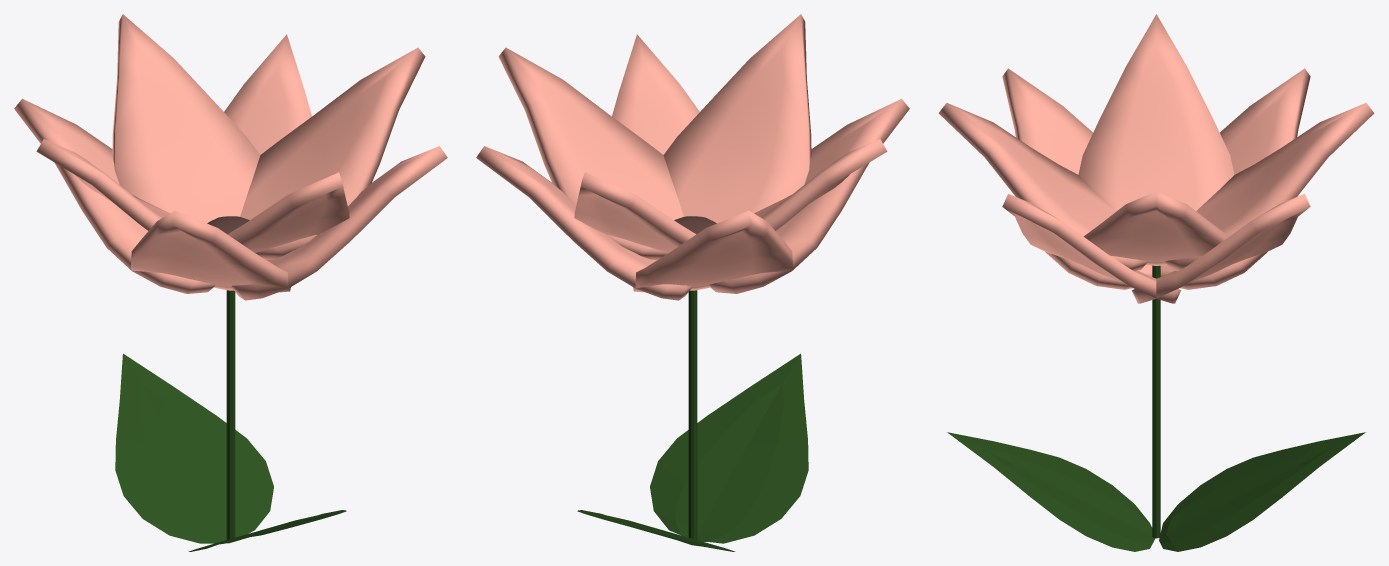
File: flower.fbx
3 renders of one model, left to right at view 1: azimuth 30°, elevation 25°; view 2: azimuth 150°, elevation 25°; view 3: azimuth 270°, elevation 25°, orthographic. The views are drawn at different scales.
Parts seen in each view (by area): view 1: Leaf.004, Leaf, Leaf.005, Leaf.006, Leaf.007, Leaf.009, Leaf.008, Leaf.002, Leaf.003, Cylinder, Leaf.001; view 2: Leaf.002, Leaf.001, Leaf.005, Leaf.007, Leaf.006, Leaf.008, Leaf.009, Leaf.004, Leaf.003, Cylinder, Leaf; view 3: Leaf.003, Leaf.001, Leaf, Leaf.002, Leaf.004, Leaf.005, Leaf.006, Leaf.007, Leaf.008, Leaf.009, Cylinder.
Boxes of the visible parts, bbox=[...] form: Leaf.004: bbox=[112, 14, 260, 223]; Leaf: bbox=[115, 353, 273, 543]; Leaf.005: bbox=[240, 47, 425, 259]; Leaf.006: bbox=[130, 210, 290, 292]; Leaf.007: bbox=[14, 98, 215, 293]; Leaf.009: bbox=[231, 146, 447, 300]; Leaf.008: bbox=[224, 34, 311, 154]; Leaf.002: bbox=[228, 172, 349, 252]; Leaf.003: bbox=[36, 139, 169, 230]; Cylinder: bbox=[226, 290, 235, 539]; Leaf.001: bbox=[188, 510, 346, 551]; Leaf.002: bbox=[663, 14, 811, 223]; Leaf.001: bbox=[650, 353, 808, 543]; Leaf.005: bbox=[498, 47, 683, 259]; Leaf.007: bbox=[633, 210, 793, 292]; Leaf.006: bbox=[709, 98, 909, 293]; Leaf.008: bbox=[476, 146, 692, 300]; Leaf.009: bbox=[612, 34, 699, 154]; Leaf.004: bbox=[574, 172, 695, 252]; Leaf.003: bbox=[754, 139, 887, 230]; Cylinder: bbox=[688, 290, 697, 539]; Leaf: bbox=[577, 510, 735, 551]; Leaf.003: bbox=[1078, 14, 1234, 210]; Leaf.001: bbox=[947, 432, 1155, 551]; Leaf: bbox=[1159, 432, 1365, 551]; Leaf.002: bbox=[938, 103, 1147, 271]; Leaf.004: bbox=[1165, 103, 1374, 271]; Leaf.005: bbox=[1084, 191, 1228, 265]; Leaf.006: bbox=[1002, 68, 1152, 289]; Leaf.007: bbox=[1160, 68, 1310, 289]; Leaf.008: bbox=[1132, 194, 1310, 303]; Leaf.009: bbox=[1002, 194, 1180, 303]; Cylinder: bbox=[1152, 265, 1160, 538].
Size of the model in its own units: 137 by 137 by 151.
